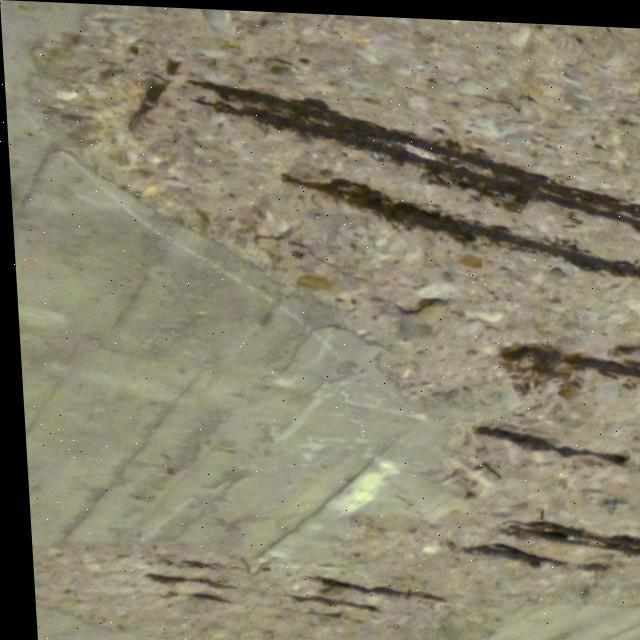D0w0: (39, 54, 639, 533)
